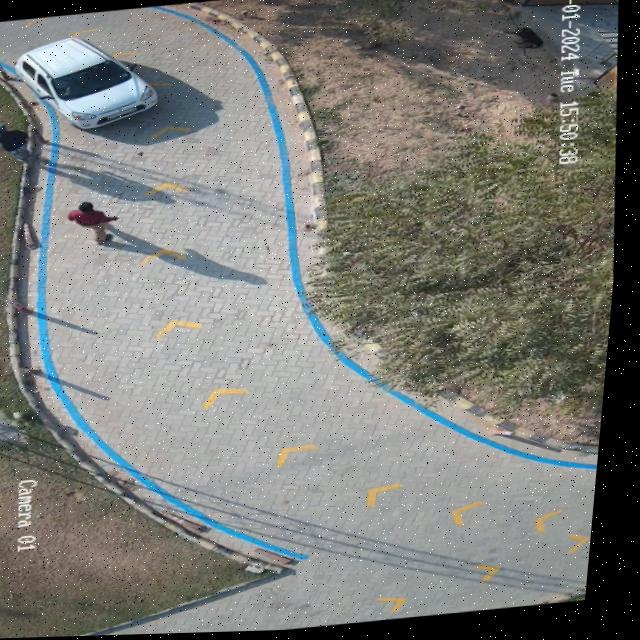car: (15, 37, 160, 129)
